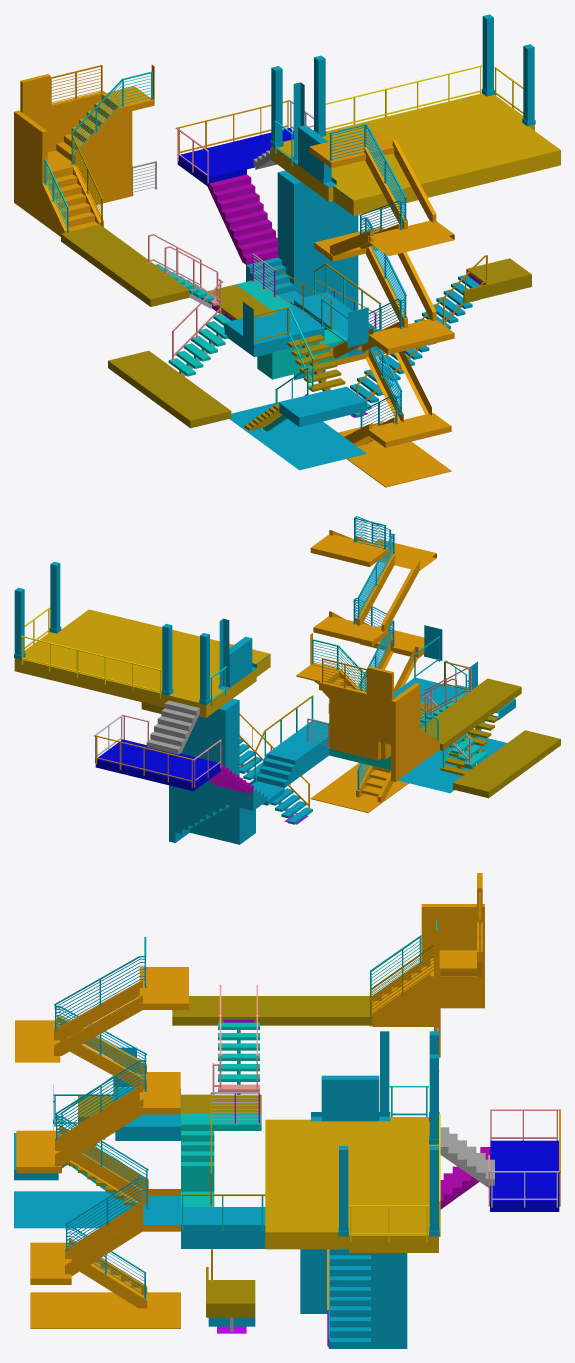
The model's file is stairs.glb.
The picture shows the model from 3 angles, top to bottom: view 1: azimuth 30°, elevation 25°; view 2: azimuth 150°, elevation 25°; view 3: azimuth 270°, elevation 25°; orthographic projection. The views are drawn at different scales.
Parts seen in each view (by area): view 1: Mesh401 Group237 Model, Mesh409 Group244 Model, Mesh478 Group305 Model, Mesh209 Group191 Model, Mesh208 Group190 Model, Mesh91 Group87 Group86 Model, Mesh402 Group238 Model, Mesh452 Group284 Model, Mesh215 Group197 Group192 Model, Mesh407 Group243 Model, Mesh22 Group24 Model, Mesh389 Group229 Model (+27 smaller); view 2: Mesh401 Group237 Model, Mesh409 Group244 Model, Mesh478 Group305 Model, Mesh407 Group243 Model, Mesh208 Group190 Model, Mesh209 Group191 Model, Mesh408 Group246 Group245 Group244 Model, Mesh215 Group197 Group192 Model, Mesh404 Group240 Model, Mesh91 Group87 Group86 Model, Mesh452 Group284 Model, Mesh239 Group213 Group192 Model (+17 smaller); view 3: Mesh401 Group237 Model, Mesh409 Group244 Model, Mesh478 Group305 Model, Mesh209 Group191 Model, Mesh215 Group197 Group192 Model, Mesh91 Group87 Group86 Model, Mesh407 Group243 Model, Mesh535 Model, Mesh22 Group24 Model, Mesh406 Group242 Model, Mesh239 Group213 Group192 Model, Mesh389 Group229 Model (+28 smaller).
Part boxes in pixels (x1,y1,x2,y2): Mesh401 Group237 Model: (271,93,560,215); Mesh409 Group244 Model: (246,170,358,310); Mesh478 Group305 Model: (14,74,105,236); Mesh209 Group191 Model: (61,224,189,306); Mesh208 Group190 Model: (108,350,231,428); Mesh91 Group87 Group86 Model: (230,399,366,469); Mesh402 Group238 Model: (207,174,277,264); Mesh452 Group284 Model: (76,111,132,204); Mesh215 Group197 Group192 Model: (338,421,451,487); Mesh407 Group243 Model: (177,128,293,186); Mesh22 Group24 Model: (236,280,347,379); Mesh389 Group229 Model: (463,258,531,303); Mesh401 Group237 Model: (14,609,270,717); Mesh409 Group244 Model: (169,698,284,844); Mesh478 Group305 Model: (319,666,439,781); Mesh407 Group243 Model: (95,739,220,791); Mesh208 Group190 Model: (453,730,560,798); Mesh209 Group191 Model: (420,678,521,750); Mesh408 Group246 Group245 Group244 Model: (257,719,328,787); Mesh215 Group197 Group192 Model: (310,763,408,812); Mesh404 Group240 Model: (146,700,199,754); Mesh91 Group87 Group86 Model: (398,734,506,792); Mesh452 Group284 Model: (329,699,380,760); Mesh239 Group213 Group192 Model: (310,534,388,566); Mesh401 Group237 Model: (265,1117,438,1252); Mesh409 Group244 Model: (330,1248,407,1348); Mesh478 Group305 Model: (372,873,484,1026); Mesh209 Group191 Model: (172,996,372,1025); Mesh215 Group197 Group192 Model: (30,1292,180,1328); Mesh91 Group87 Group86 Model: (14,1191,180,1227); Mesh407 Group243 Model: (490,1140,559,1211); Mesh535 Model: (181,1224,329,1348); Mesh22 Group24 Model: (181,1114,261,1206); Mesh406 Group242 Model: (321,1075,379,1121); Mesh239 Group213 Group192 Model: (139,967,188,1009); Mesh389 Group229 Model: (206,1267,255,1317).
Bounding box in the file's own units: 638 × 424 × 586.
